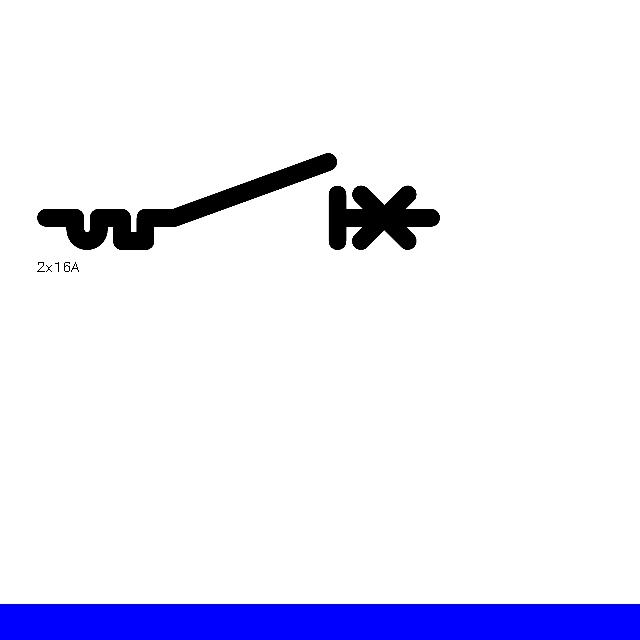interruptor_termomagnetico: (36, 152, 441, 251)
